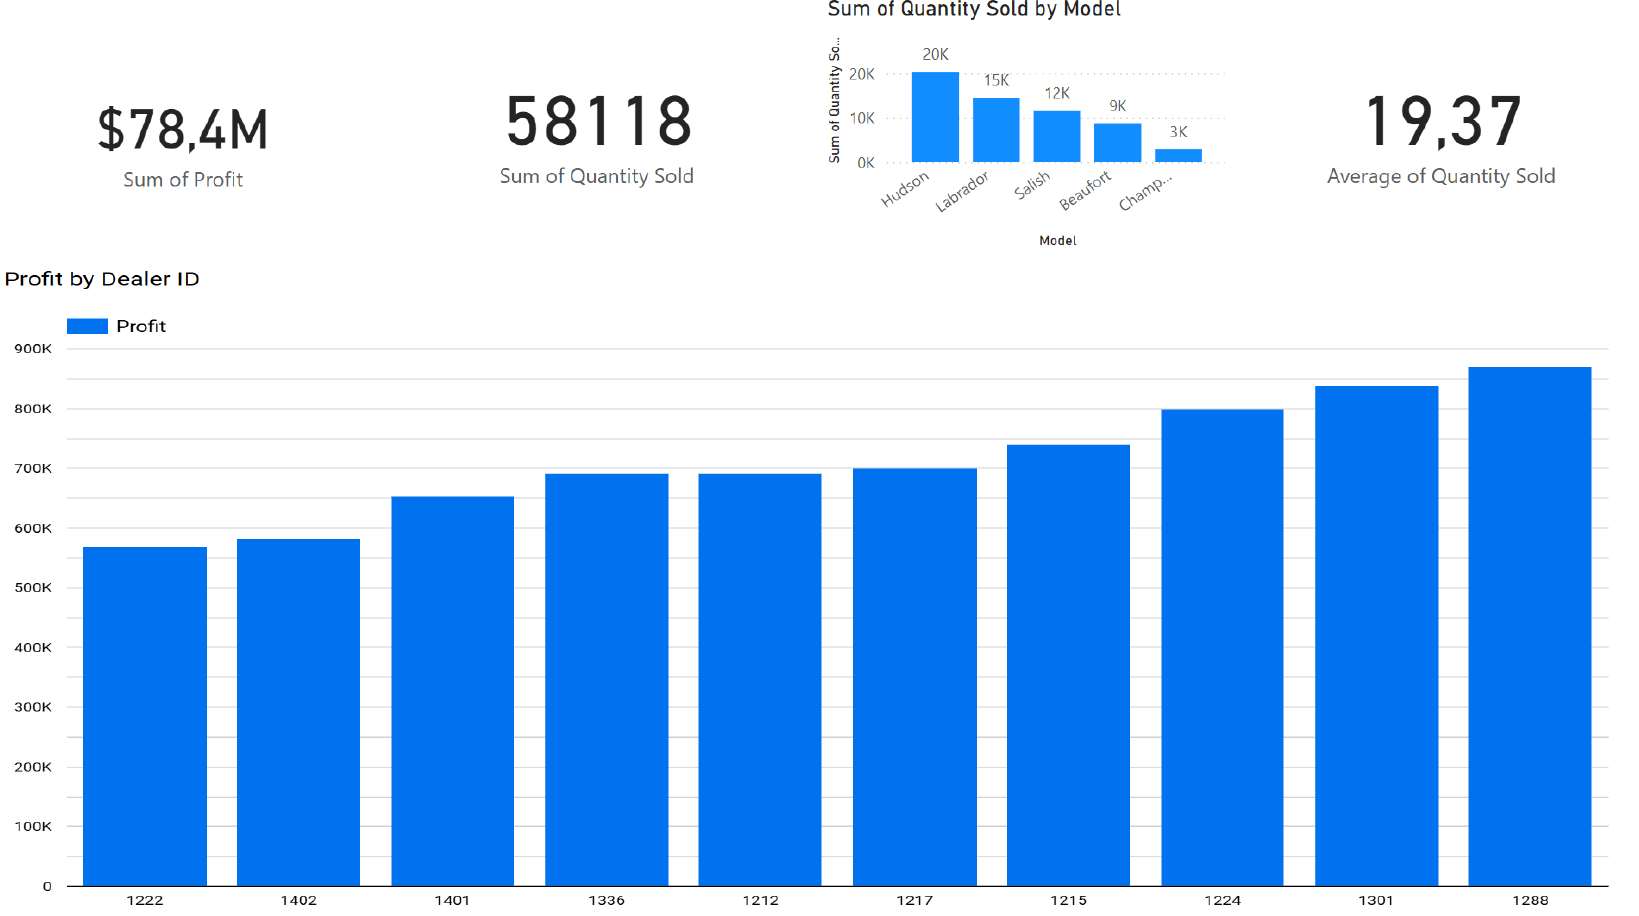

The dashboard page shown, as its layout file describes it:
{"tool":"powerbi","page":{"name":"Sales","canvas":[1280,720],"ordinal":0},"visuals":[{"type":"card","fields":{"Values":["Sum(AU_Sales_By_Models.Profit)"]},"box":[0,8,296,202],"z":0},{"type":"card","fields":{"Values":["Sum(AU_Sales_By_Models.Quantity Sold)"]},"box":[296,0,344,200],"z":1000},{"type":"columnChart","fields":{"Category":["AU_Sales_By_Models.Model"],"Y":["Sum(AU_Sales_By_Models.Quantity Sold)"]},"box":[640,0,320,200],"z":2000},{"type":"card","fields":{"Values":["Avg(AU_Sales_By_Models.Quantity Sold)"]},"box":[960,0,320,200],"z":3000},{"type":"clusteredColumnChart","fields":{"Category":["AU_Dealers.Dealer ID"],"Y":["Sum(AU_Sales_By_Models.Profit)"]},"box":[0,200,1280,520],"z":4000}]}

Visuals, with their boxes in screenshot pixels (x1, y1, x2, y2), scaled from the page's 1280x720 canvas onto the 1639x916 screenshot:
card - Sum(AU_Sales_By_Models.Profit): region(0, 10, 379, 267)
card - Sum(AU_Sales_By_Models.Quantity Sold): region(379, 0, 820, 254)
columnChart - AU_Sales_By_Models.Model x Sum(AU_Sales_By_Models.Quantity Sold): region(820, 0, 1229, 254)
card - Avg(AU_Sales_By_Models.Quantity Sold): region(1229, 0, 1638, 254)
clusteredColumnChart - AU_Dealers.Dealer ID x Sum(AU_Sales_By_Models.Profit): region(0, 254, 1638, 915)
